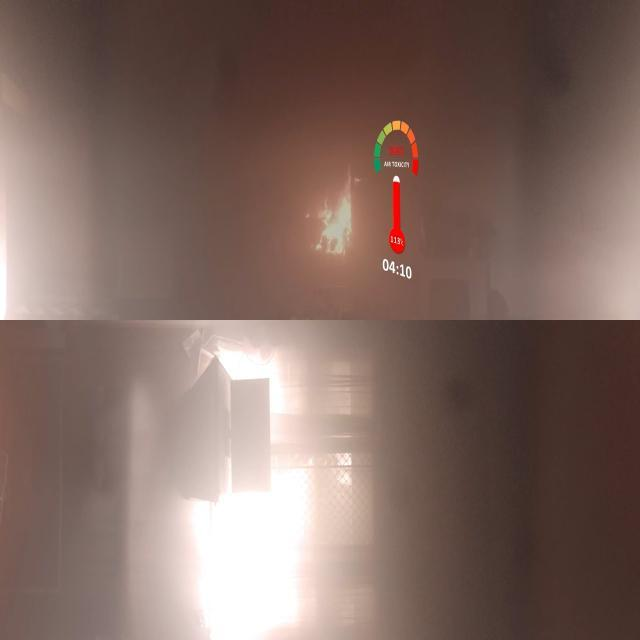Fire: (275, 129, 387, 323)
